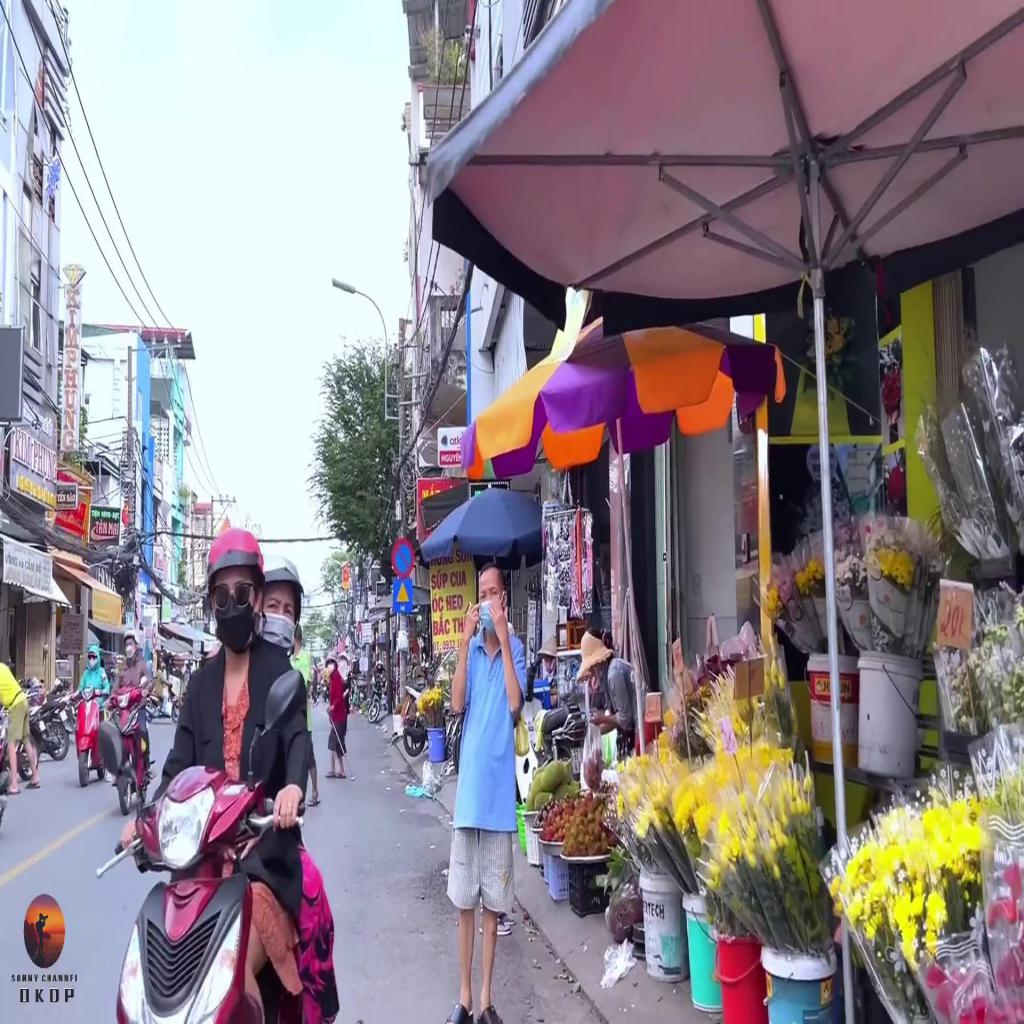cam_do_xe: (392, 538, 414, 576)
cam_o_to_tai: (152, 623, 157, 646)
cho: (392, 578, 413, 614)
